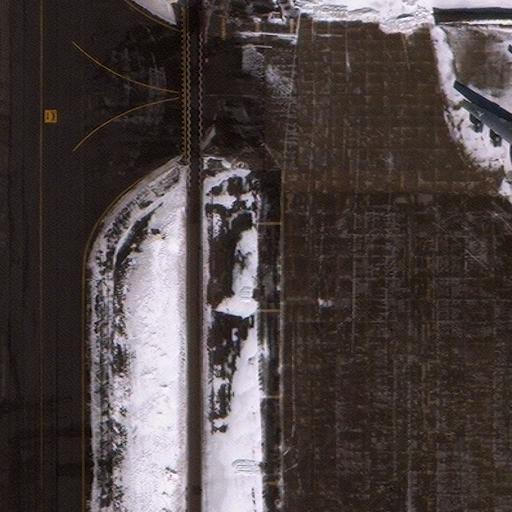Military Transport: (458, 88, 512, 177)
